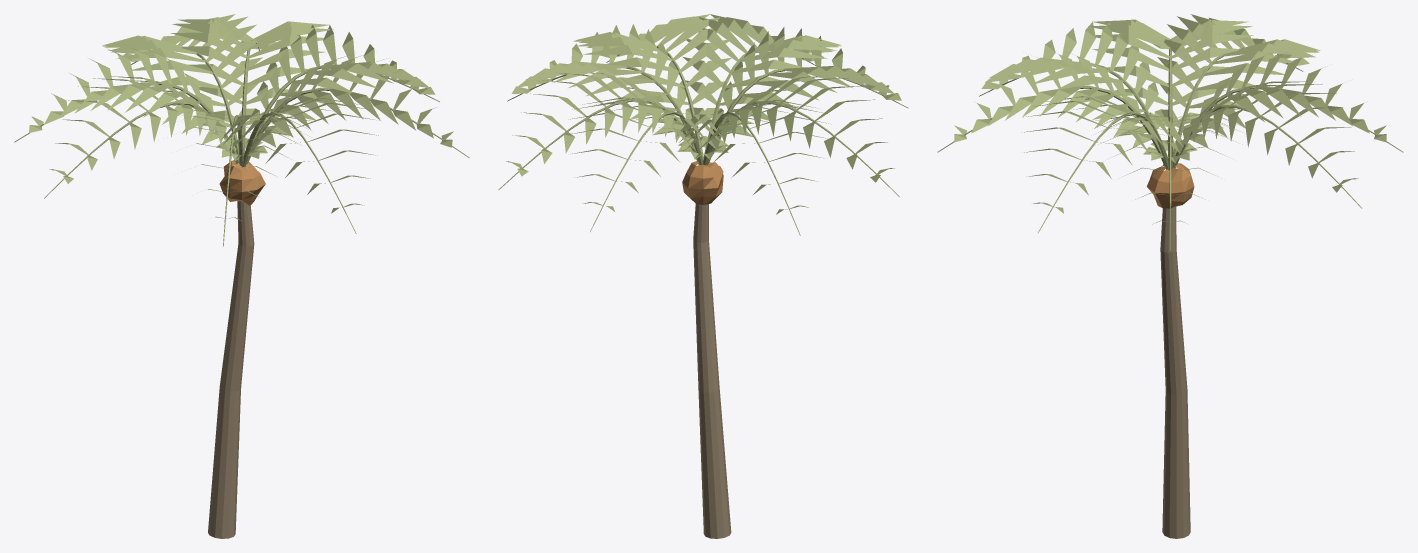
File: desert-canyons-and-oases-date-palm-young-34a34908__20983.glb
3 views of the same model, side by side, from view 1: azimuth 30°, elevation 25°; view 2: azimuth 150°, elevation 25°; view 3: azimuth 270°, elevation 25° (orthographic). The views are drawn at different scales.
Parts seen in each view (by area): view 1: date-palm-young; view 2: date-palm-young; view 3: date-palm-young.
Part boxes in pixels (x1=…): date-palm-young: x1=14, y1=14, x2=469, y2=538; date-palm-young: x1=498, y1=14, x2=908, y2=538; date-palm-young: x1=937, y1=14, x2=1403, y2=538.
Bounding box in the file's own units: 3.22 × 3.58 × 3.22.
